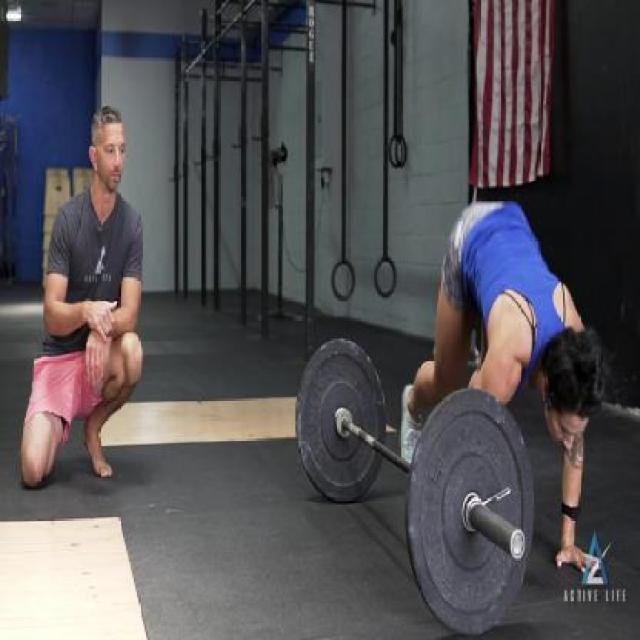barbell: (402, 383, 538, 640), (293, 329, 391, 513)
